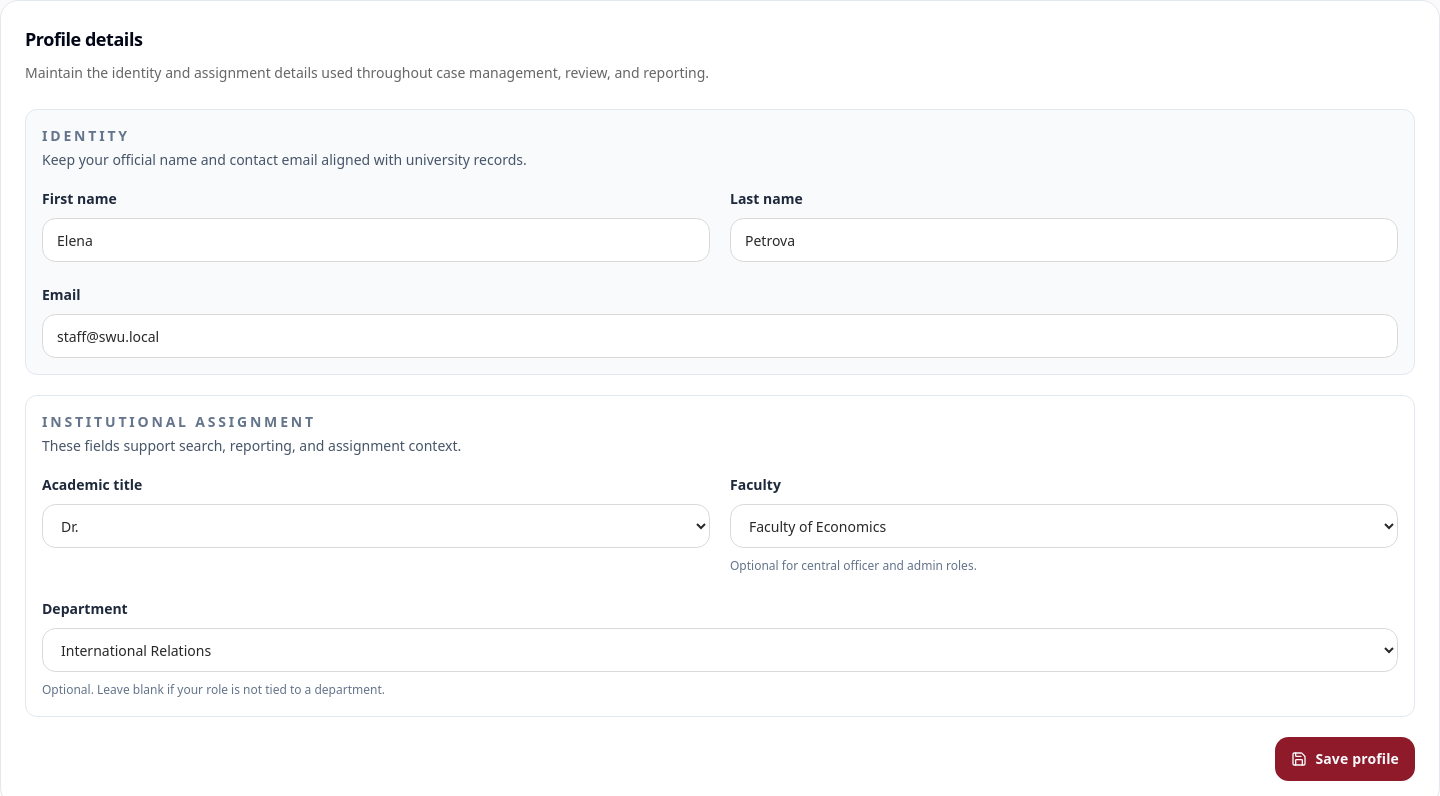
Test: ProfileForm › submits valid profile details and refreshes the page
This screenshot has width=1440, height=796.
Step 1. Replace the text in the field labelled "First name" with "Elena Updated" → (376, 240), box [42, 218, 710, 262]
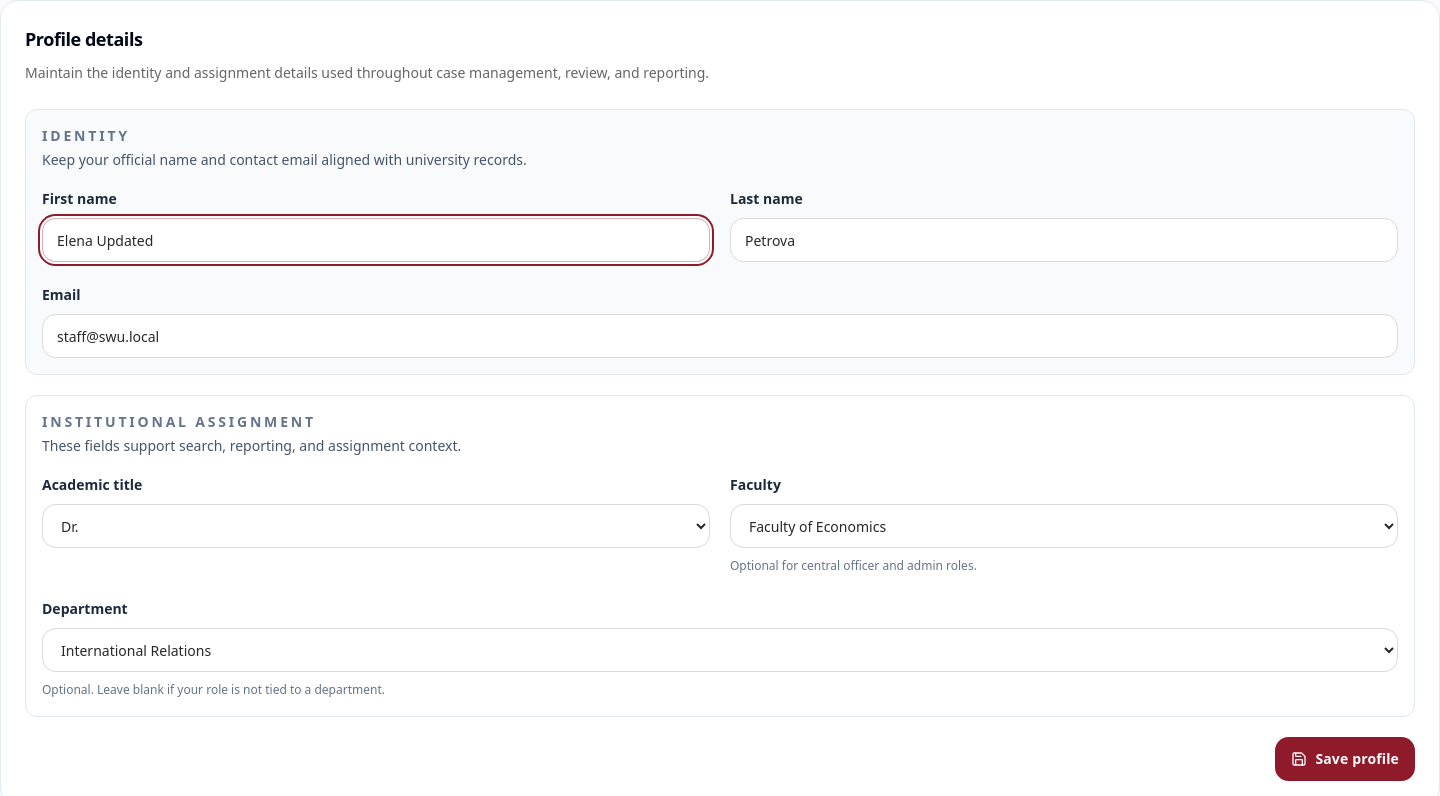
Step 2. Select "Faculty of Law and History" in the dropdown labelled "Faculty" → (1064, 526), box [730, 504, 1398, 548]
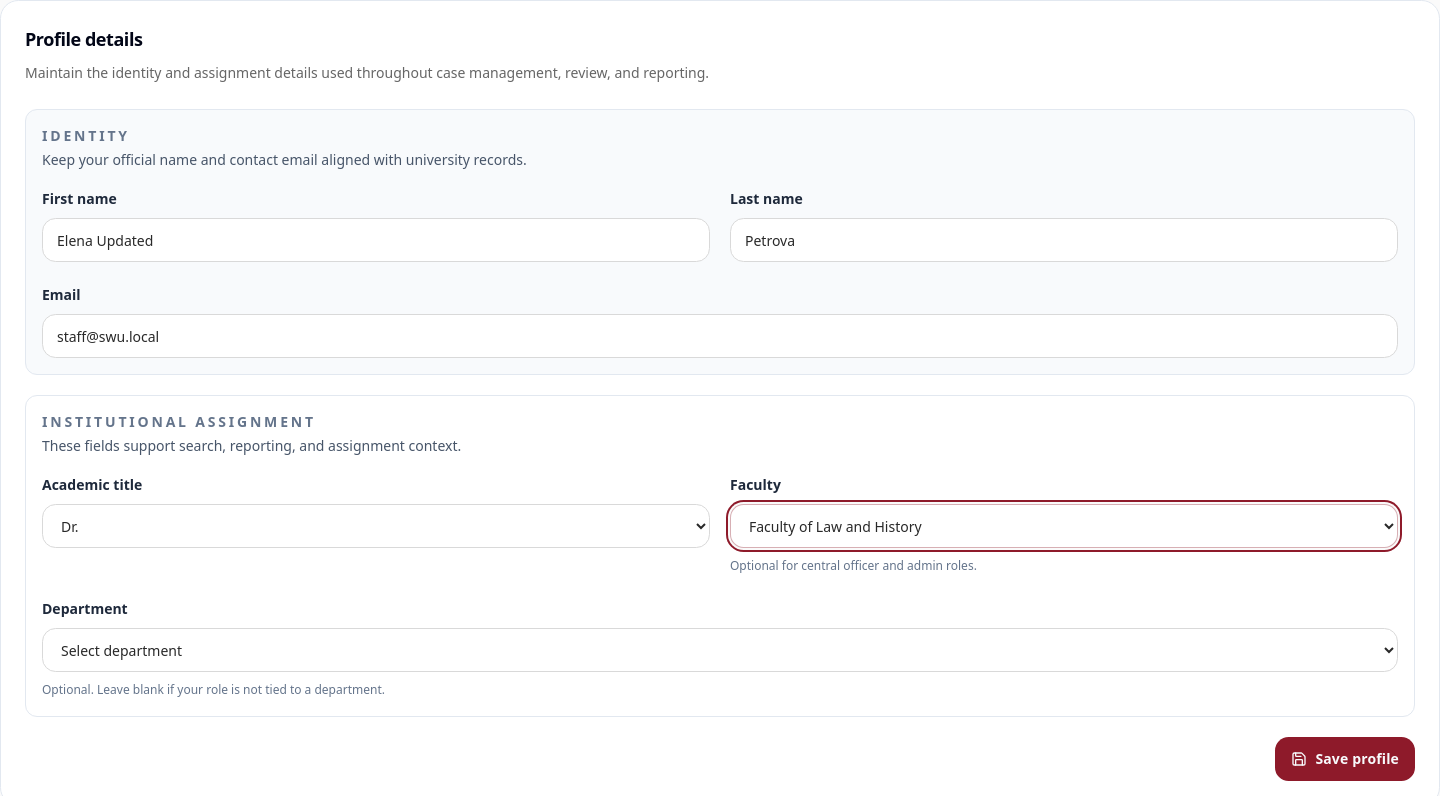
Step 3. Select "Public Law" in the dropdown labelled "Department" → (720, 650), box [42, 628, 1398, 672]
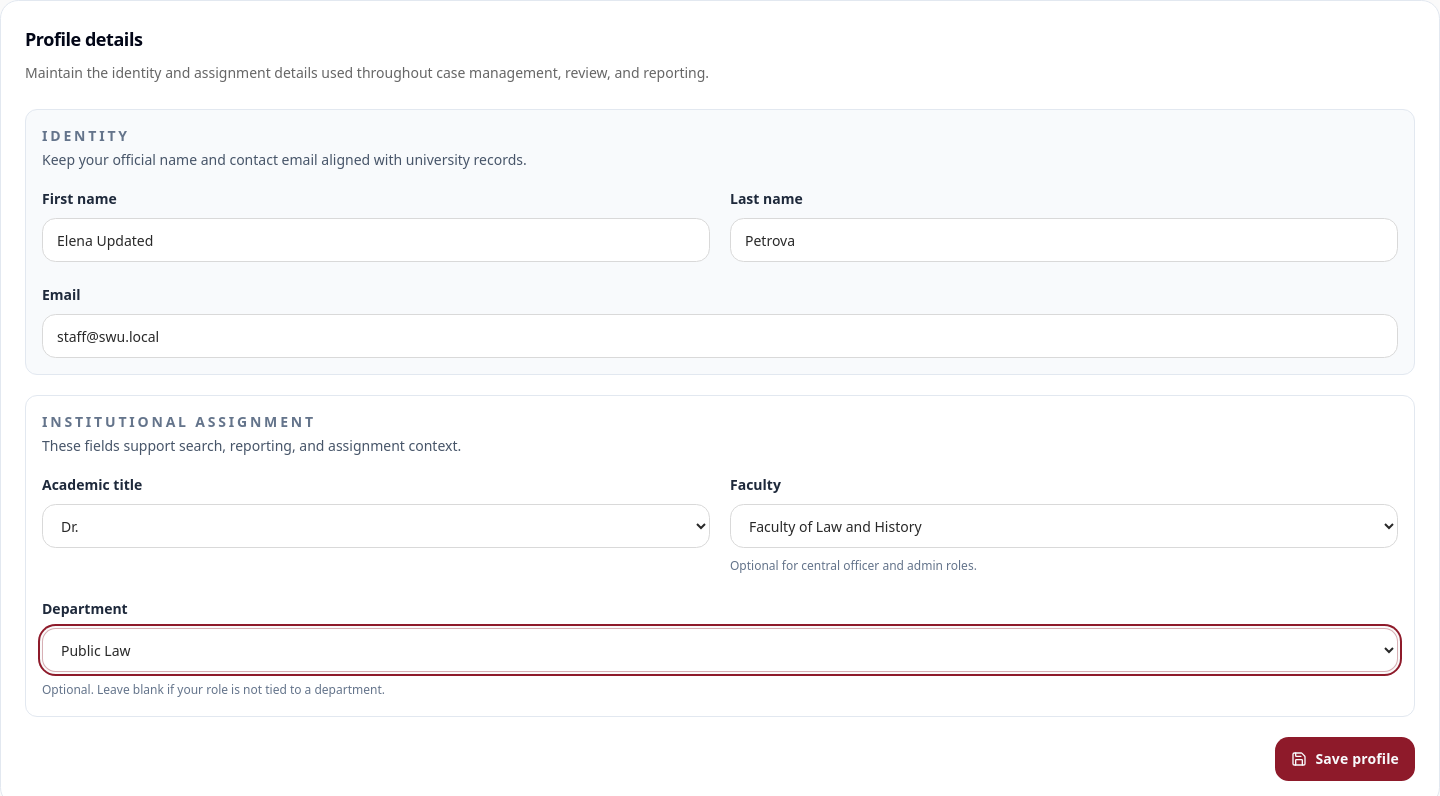
Step 4. Click the button "Save profile" → (1345, 759), box [1275, 737, 1415, 781]
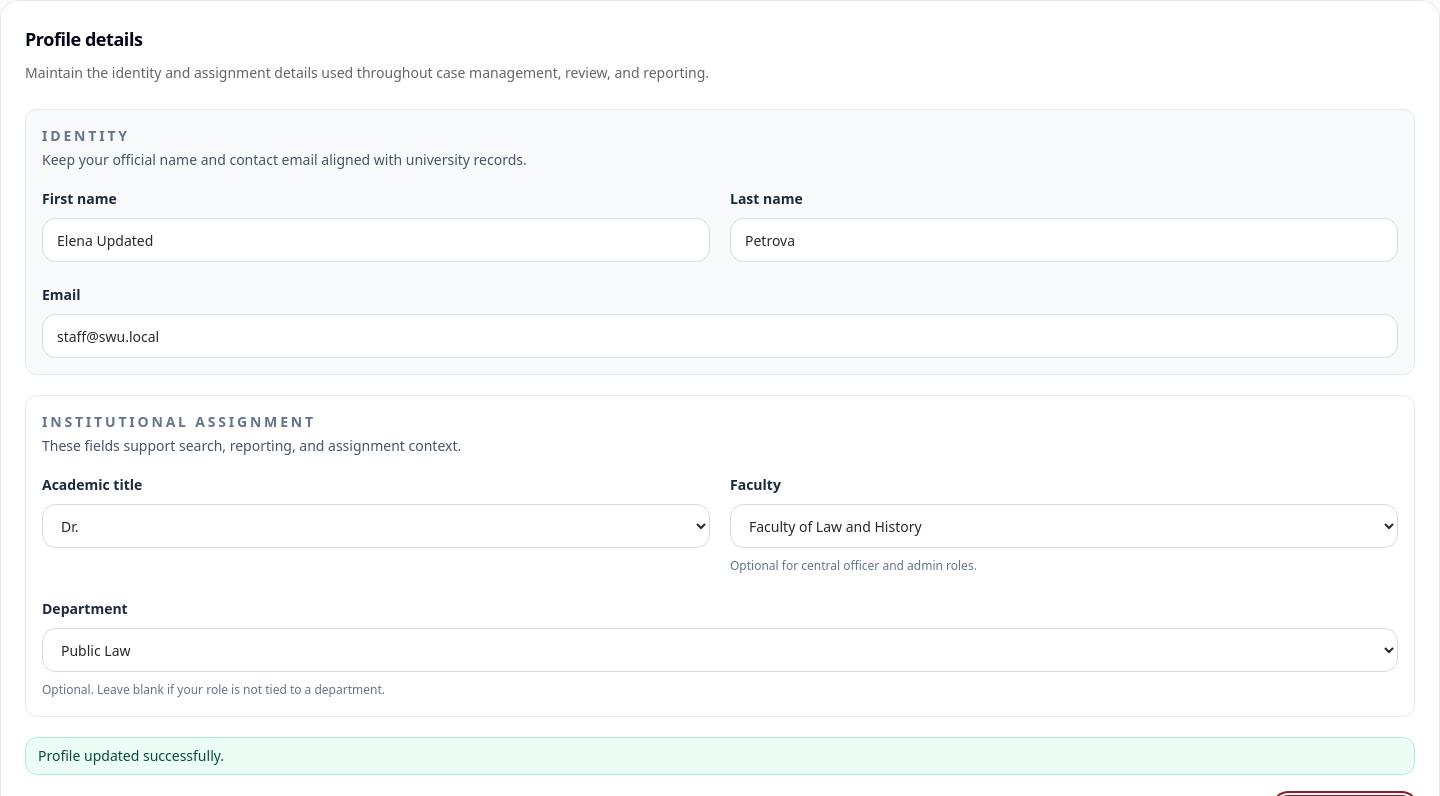
Expected: the text "Profile updated successfully." is shown, [25, 737, 1415, 775]
